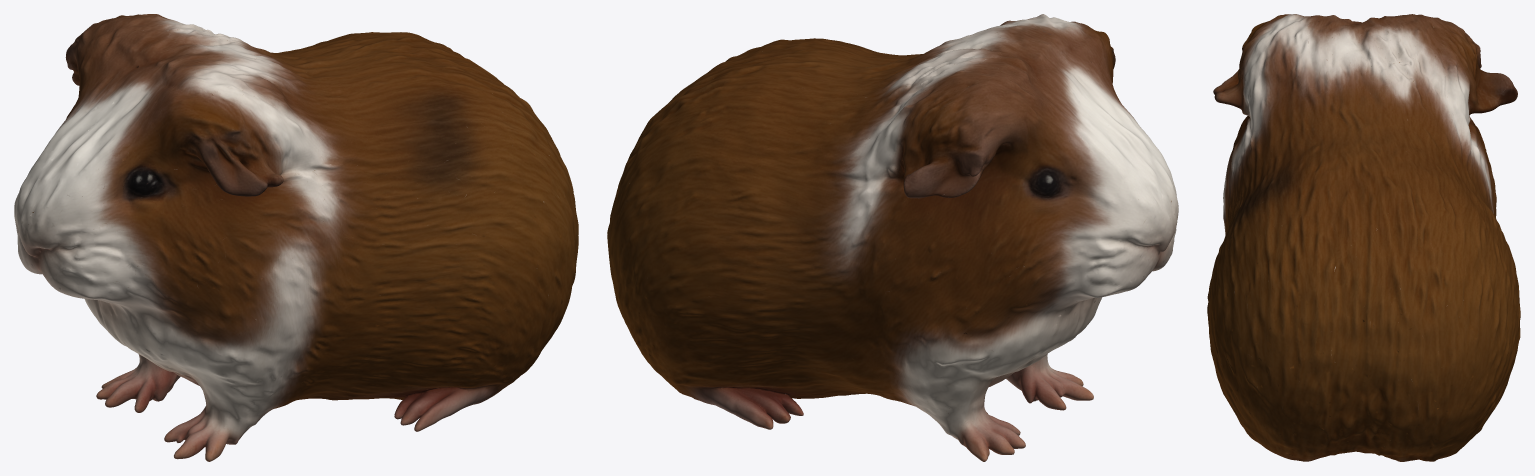
File: cuy.glb
The picture shows the model from 3 angles, left to right: view 1: azimuth 30°, elevation 25°; view 2: azimuth 150°, elevation 25°; view 3: azimuth 270°, elevation 25°; orthographic projection. The views are drawn at different scales.
Parts seen in each view (by area): view 1: world; view 2: world; view 3: world.
Boxes of the visible parts, x1,y1,x2,y2 form: world: (14, 14, 578, 461); world: (607, 14, 1178, 461); world: (1207, 14, 1520, 461).
Bounding box in the file's own units: 1 × 0.6849 × 0.6068.
1 material, 1 textured.
